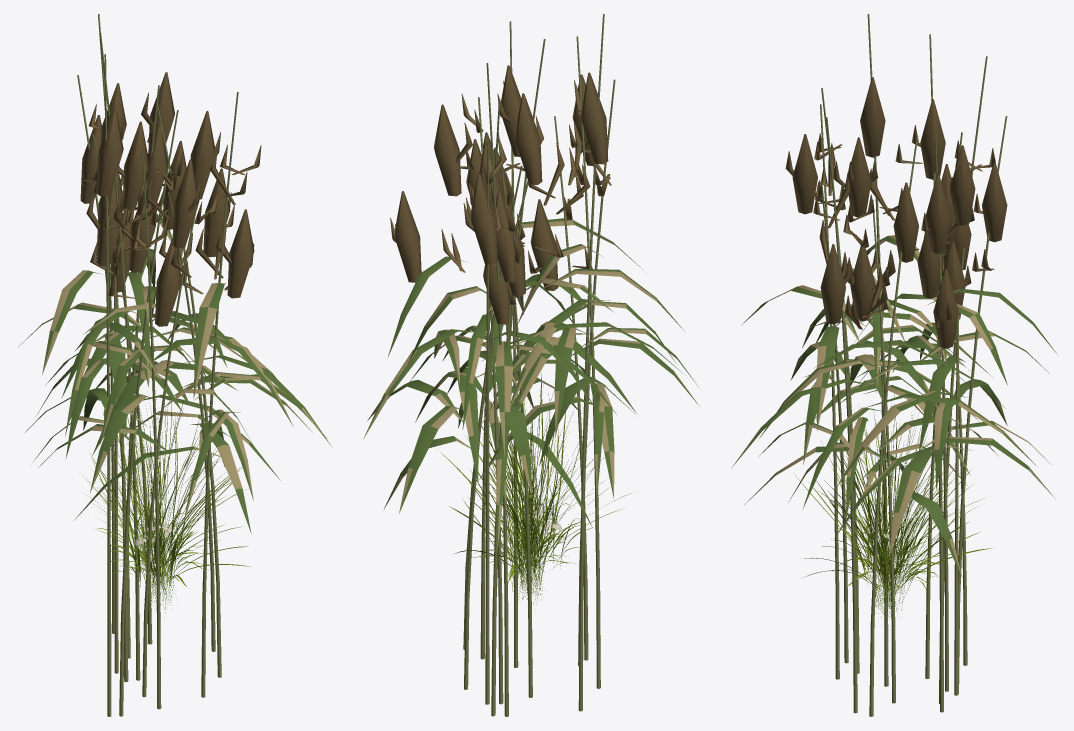
File: vegetation_09.glb
The picture shows the model from 3 angles, left to right: view 1: azimuth 30°, elevation 25°; view 2: azimuth 150°, elevation 25°; view 3: azimuth 270°, elevation 25°; orthographic projection. The views are drawn at different scales.
Visible parts, largest first — view 1: prototype_072, prototype_073, prototype_076, prototype_079, prototype_074, prototype_075; view 2: prototype_072, prototype_073, prototype_076, prototype_079, prototype_074, prototype_075; view 3: prototype_073, prototype_072, prototype_076, prototype_079, prototype_074, prototype_075.
Part boxes in pixels (x1,y1,x2,y2): prototype_072: (18,14,293,716); prototype_073: (36,32,332,709); prototype_076: (79,412,251,617); prototype_079: (106,378,231,606); prototype_074: (97,496,210,587); prototype_075: (111,521,203,589); prototype_072: (407,14,698,716); prototype_073: (363,21,698,716); prototype_076: (437,397,631,605); prototype_079: (481,356,581,597); prototype_074: (483,490,592,576); prototype_075: (466,508,580,582); prototype_073: (731,34,1057,716); prototype_072: (744,14,1051,703); prototype_076: (793,432,992,617); prototype_079: (829,394,950,613); prototype_074: (835,506,930,593); prototype_075: (830,526,939,591).
Size of the model in its own units: 1.47 by 3.23 by 1.45.
10 materials, 6 textured.
